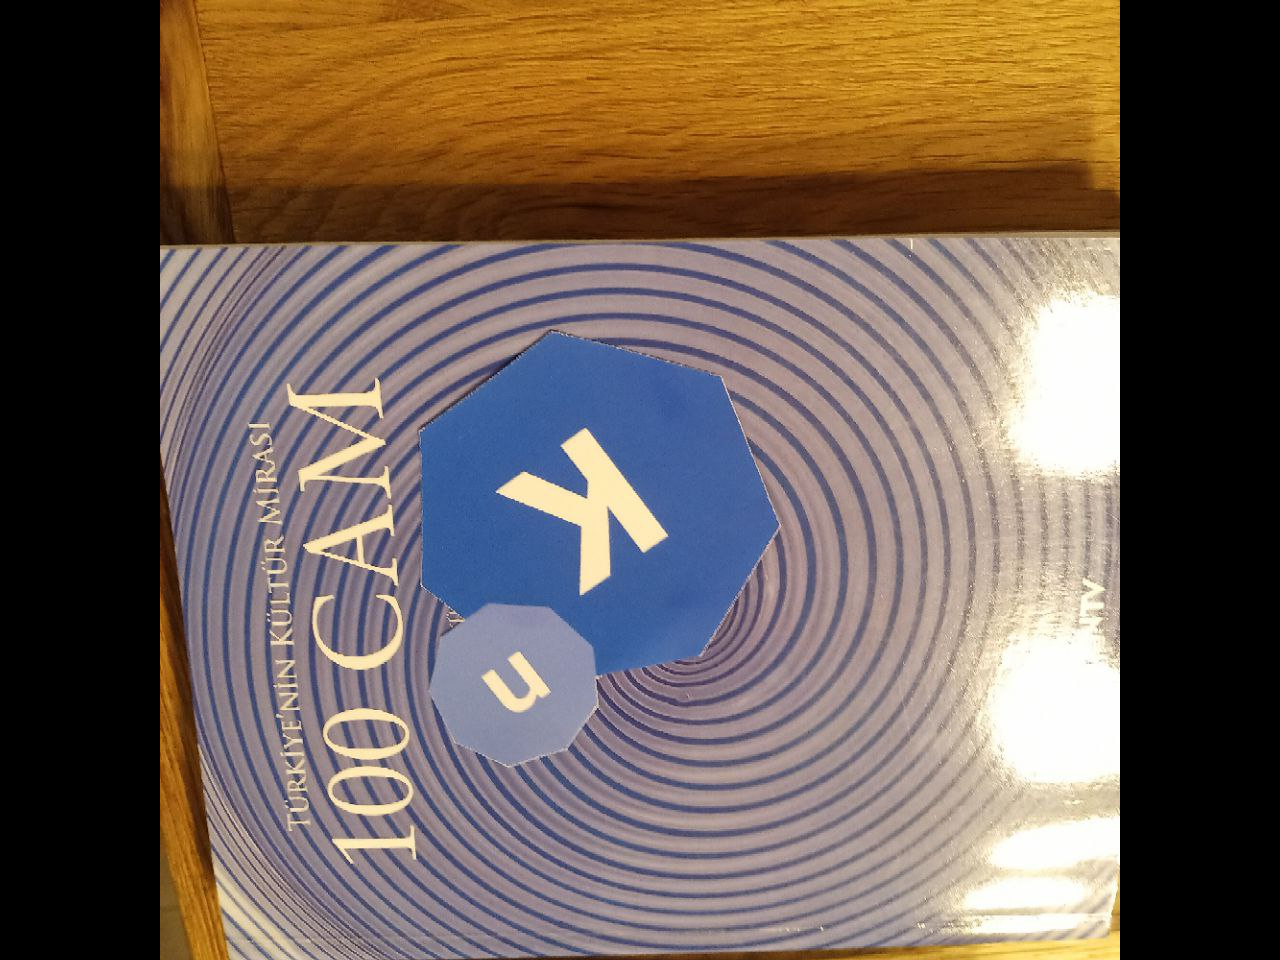knative: (417, 322, 780, 763)
